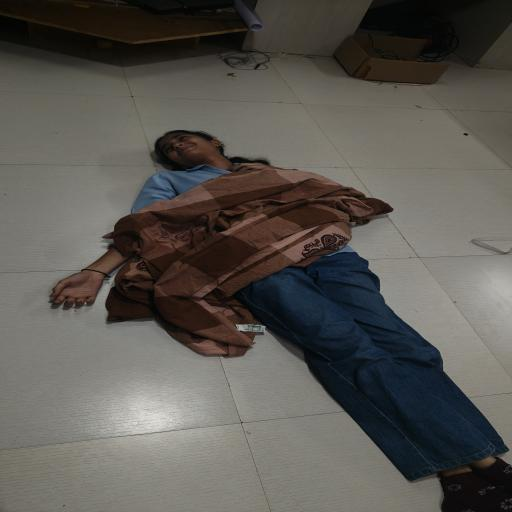survivor: (48, 130, 512, 512)
